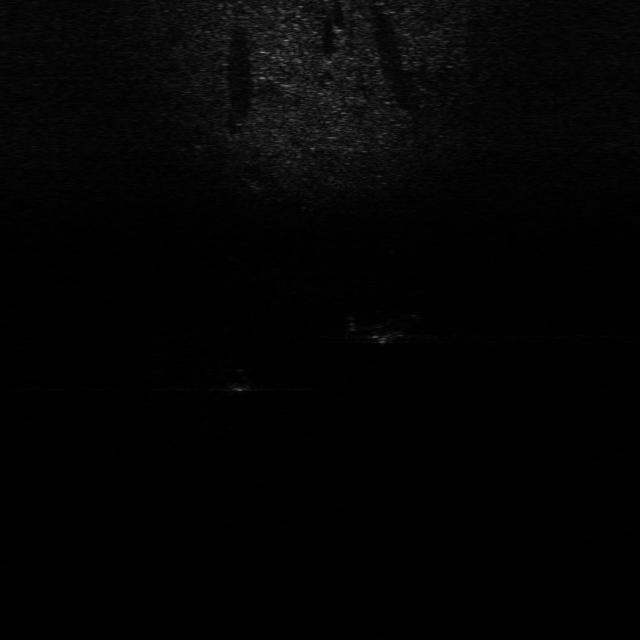ball: (212, 362, 263, 399)
human body: (342, 310, 428, 349)
